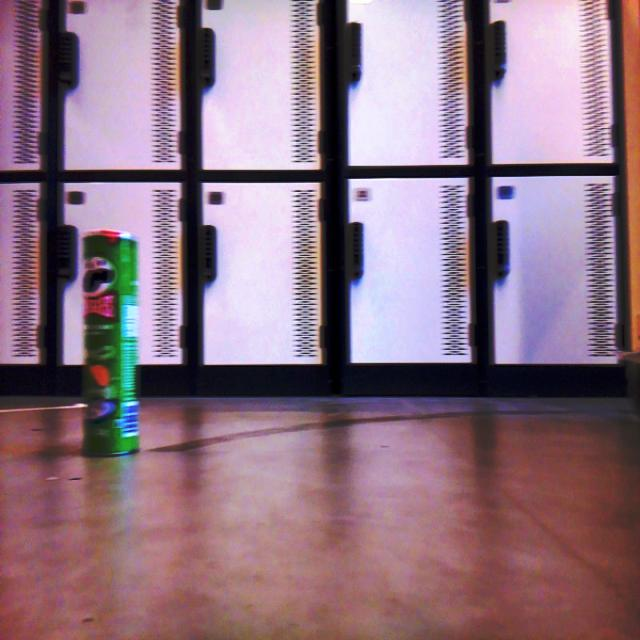greenpringles: (72, 213, 145, 467)
